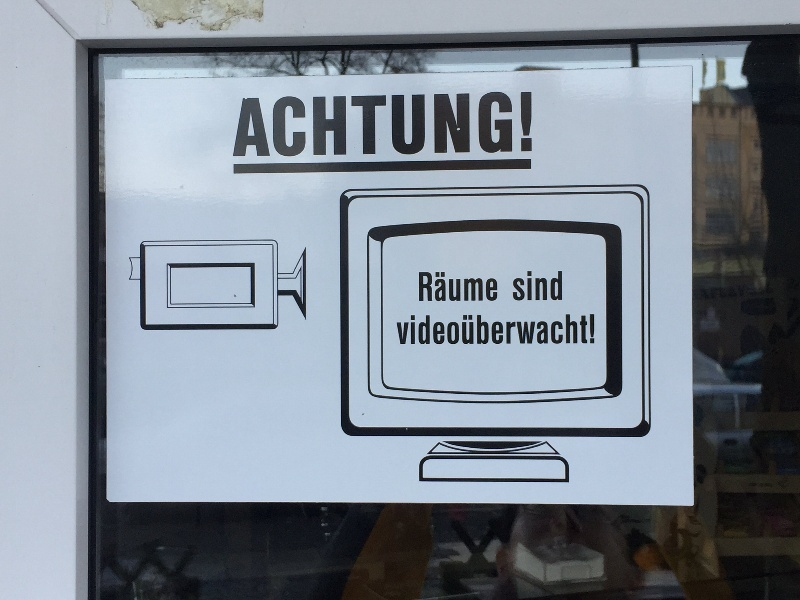text: (257, 91, 272, 158), (273, 91, 288, 158), (289, 91, 304, 158), (305, 91, 320, 158), (321, 91, 336, 158), (337, 91, 352, 158), (353, 91, 368, 158), (369, 91, 384, 158), (385, 91, 400, 158), (401, 91, 416, 158), (417, 91, 432, 158), (433, 91, 448, 158), (449, 91, 464, 158), (465, 91, 480, 158), (481, 91, 496, 158), (497, 91, 512, 158), (513, 91, 528, 158), (243, 91, 256, 158), (401, 314, 416, 346), (417, 314, 432, 346), (433, 314, 448, 346), (449, 314, 464, 346), (465, 314, 480, 346), (481, 314, 496, 346), (497, 314, 512, 346), (513, 314, 528, 346), (529, 314, 544, 346), (545, 314, 560, 346), (561, 314, 576, 346), (577, 314, 592, 346), (433, 272, 448, 302), (449, 272, 464, 302), (465, 272, 480, 302), (481, 272, 496, 302), (513, 271, 528, 301), (529, 271, 544, 301), (545, 271, 560, 301), (419, 272, 432, 302), (529, 91, 533, 158), (395, 314, 400, 346), (593, 314, 595, 346), (497, 272, 498, 302), (561, 271, 562, 301)
